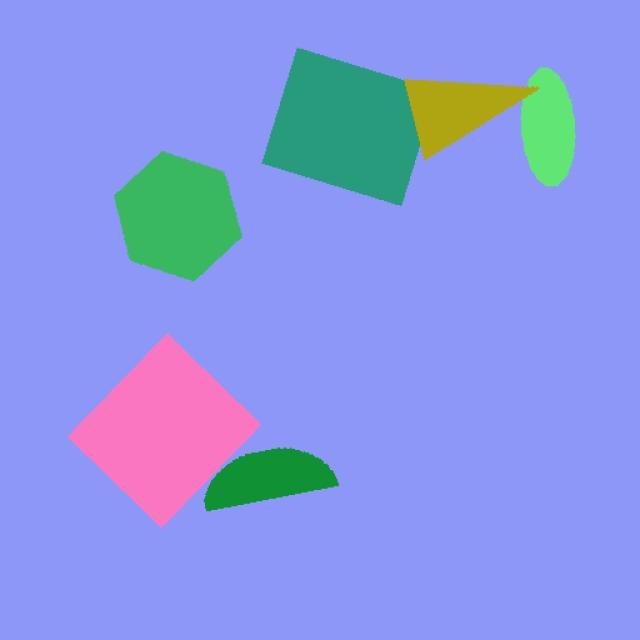Hexagon: (110, 147, 271, 292)
Oval: (511, 50, 589, 200)
Rectangle: (266, 42, 446, 211)
Triangle: (394, 56, 546, 162)
square: (60, 321, 257, 533), (186, 446, 346, 519)
